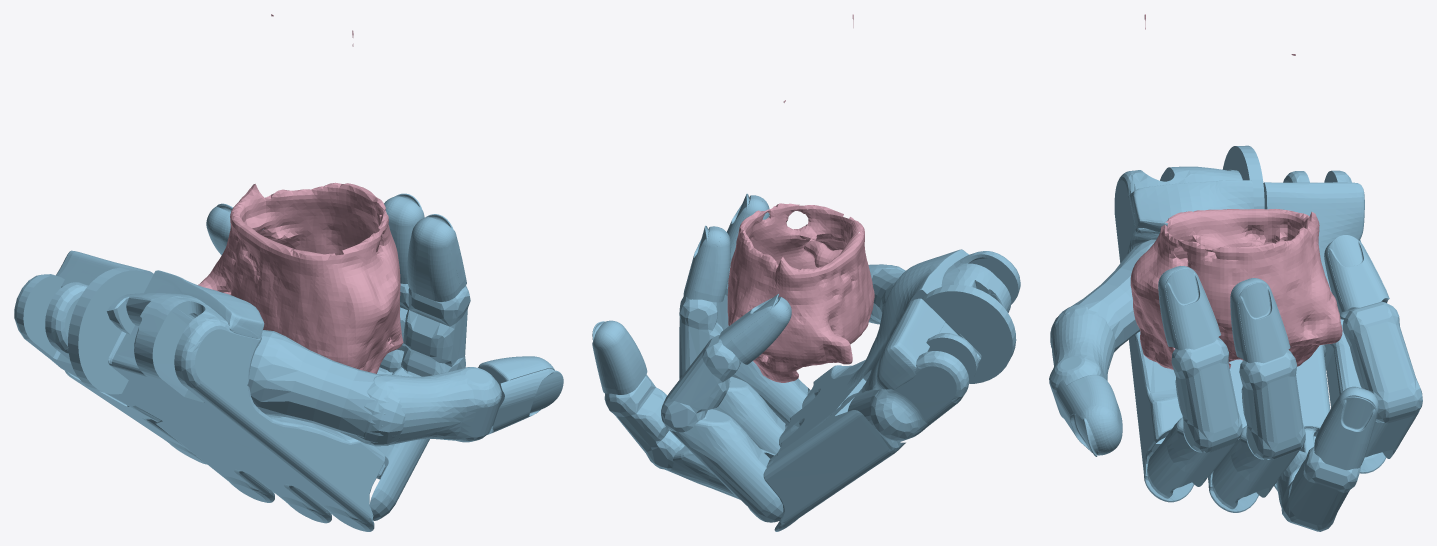
The picture shows the model from 3 angles, left to right: view 1: azimuth 30°, elevation 25°; view 2: azimuth 150°, elevation 25°; view 3: azimuth 270°, elevation 25°; orthographic projection. The views are drawn at different scales.
Parts seen in each view (by area): view 1: hand, world; view 2: hand, world; view 3: hand, world.
Boxes of the visible parts, box(x1,y1,x2,y2) form: hand: box(14, 193, 563, 531); world: box(198, 14, 403, 373); hand: box(592, 193, 1020, 531); world: box(727, 14, 874, 382); hand: box(1049, 145, 1422, 531); world: box(1130, 14, 1342, 369).
Bounding box in the file's own units: 0.1505 × 0.1808 × 0.1247.
